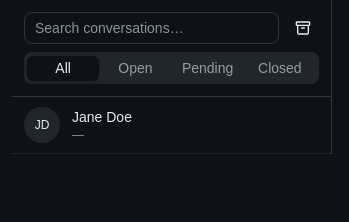
Test: ConversationList — scope toggle (Task 26) › renders the scope toggle once the search box is non-empty, and switching to Messages swaps the panel
Expected: the tab "Messages" is not shown
Type "jane" into the field labelled "Search conversations" at (152, 28), box top-left (24, 12), bottom-right (279, 44)
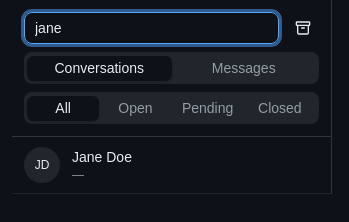
Expected: the list named "Conversations" is shown, top-left (12, 137), bottom-right (331, 194)
Now the tab "Messages" is shown
Click the tab "Messages" at (244, 68), box top-left (172, 56), bottom-right (316, 80)
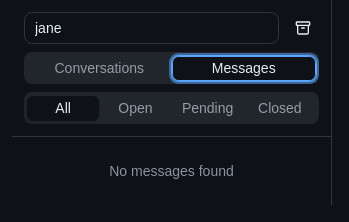
Now the list named "Message search results" is shown, box top-left (109, 163), bottom-right (234, 179)
